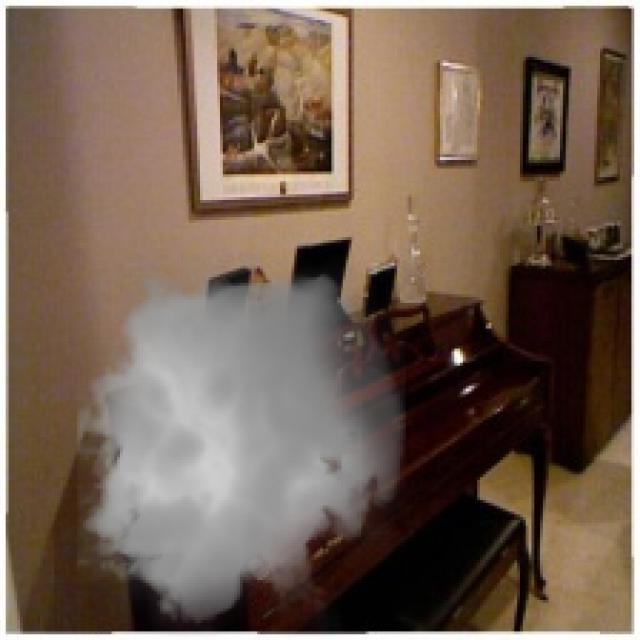smoke: (63, 254, 417, 637)
